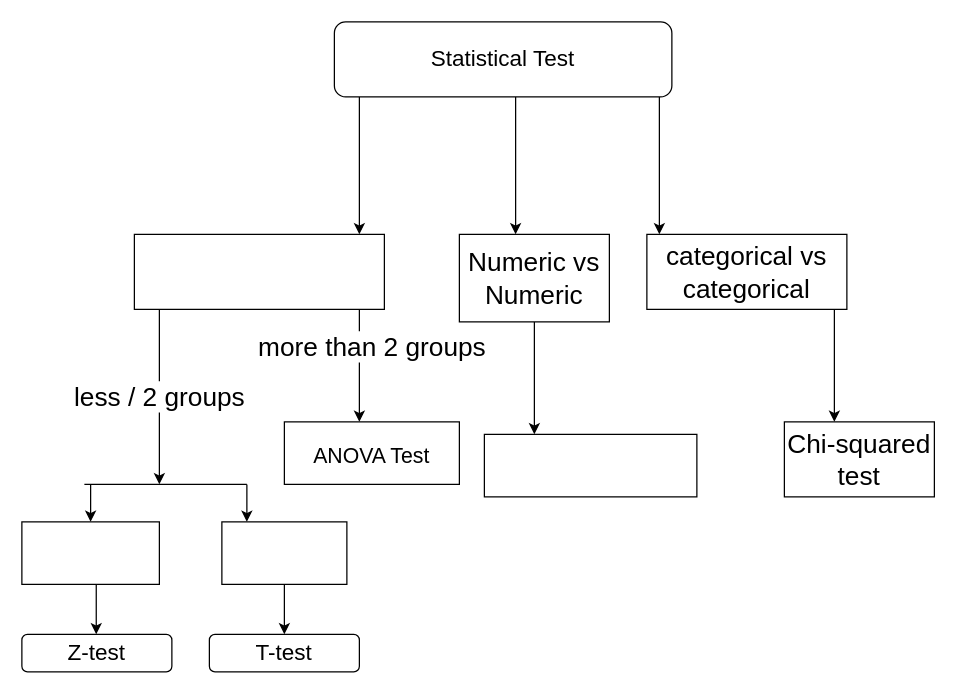
Image size: 956x694. Some labels were removed from this diagram. Each missing label, with the box of its shape:
correlation test: (483, 433, 697, 497)
large sample: (21, 521, 159, 584)
Numeric vs Categorical: (133, 233, 384, 309)
small sample: (221, 521, 347, 584)
